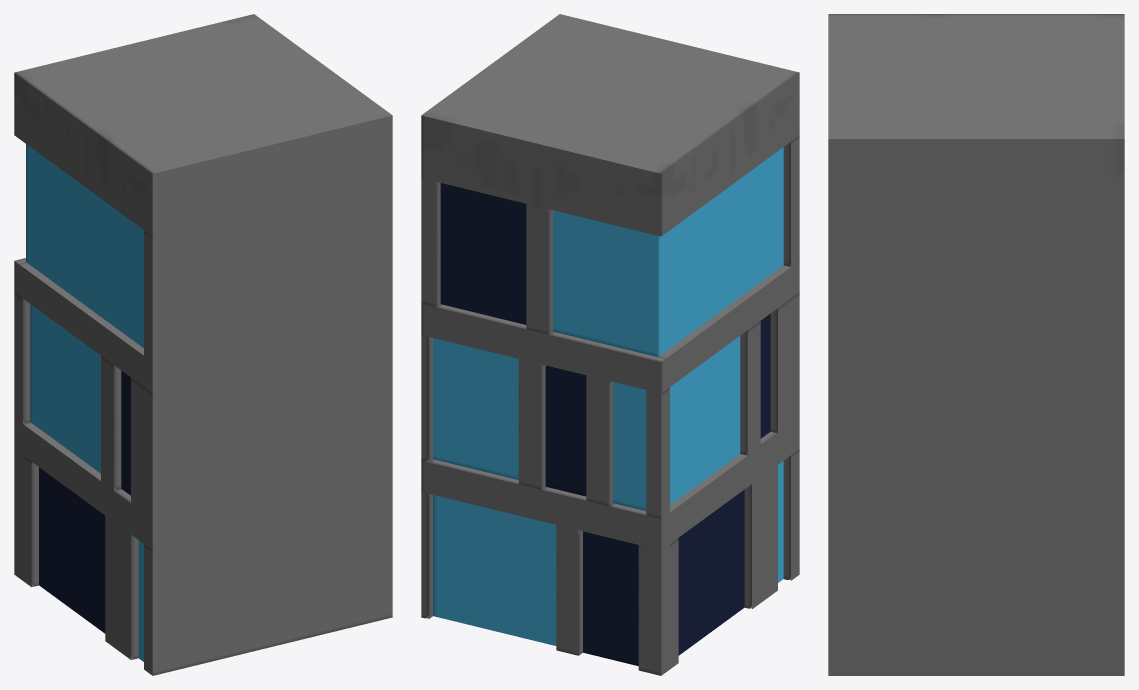
The model's file is ŚRODEK_PIĘTRO_CHYBA_3.dae.
3 renders of one model, left to right at view 1: azimuth 30°, elevation 25°; view 2: azimuth 150°, elevation 25°; view 3: azimuth 270°, elevation 25°, orthographic. The views are drawn at different scales.
Visible parts, largest first — view 1: Content; view 2: Content; view 3: Content.
Part boxes in pixels (bbox=[...]): Content: bbox=[14, 14, 392, 675]; Content: bbox=[421, 14, 799, 675]; Content: bbox=[828, 14, 1124, 675].
Bounding box in the file's own units: 32 × 64 × 32.
1 material, 1 textured.
